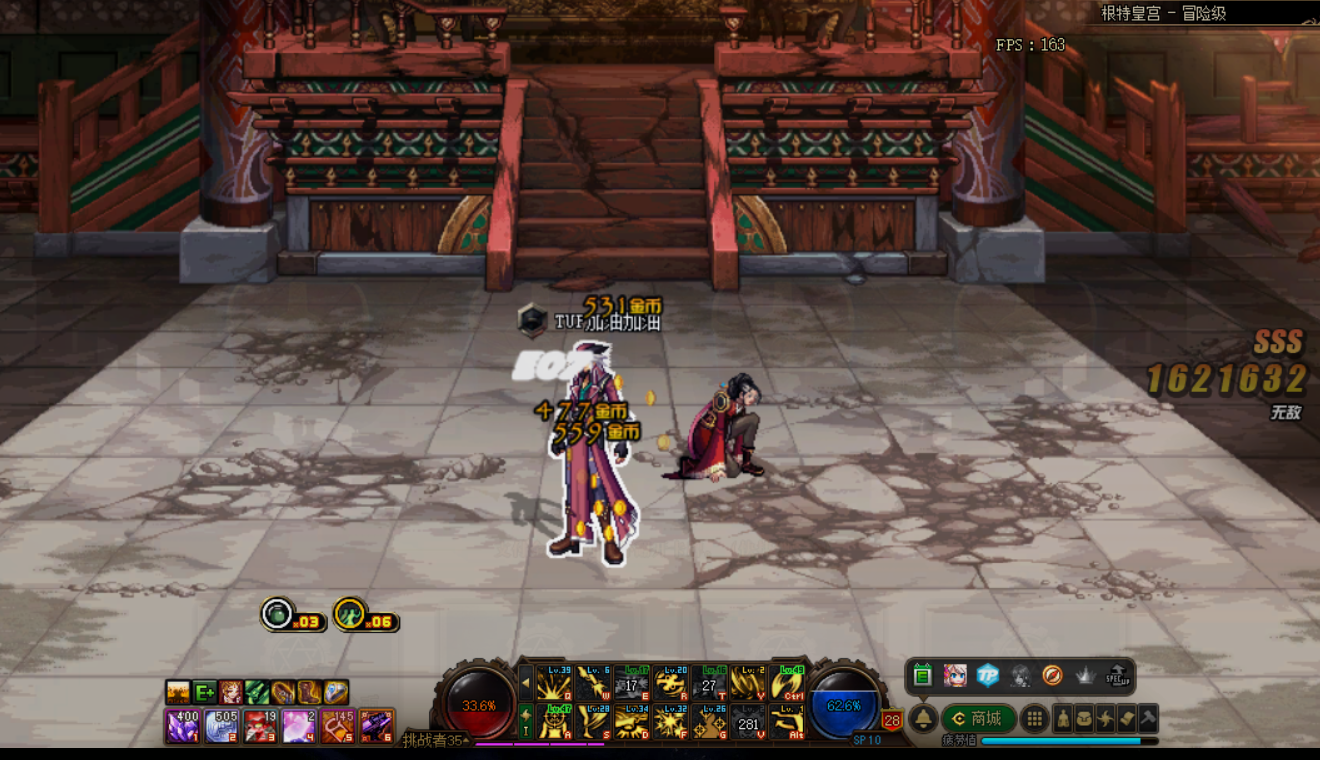boss: (670, 363, 783, 488)
warrior: (527, 334, 650, 570)
